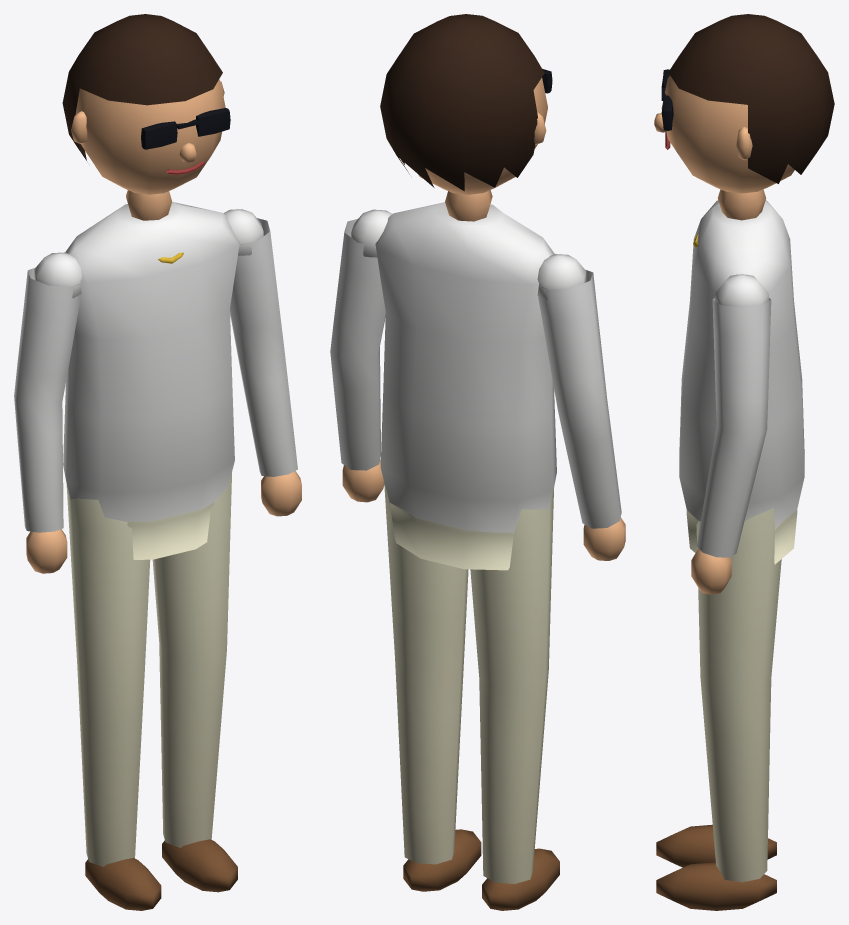
File: Guest_WealthyMan.obj
The picture shows the model from 3 angles, left to right: view 1: azimuth 30°, elevation 25°; view 2: azimuth 150°, elevation 25°; view 3: azimuth 270°, elevation 25°; orthographic projection. The views are drawn at different scales.
Parts seen in each view (by area): view 1: Torso, LegR, Head, LegL, ArmR, ArmL; view 2: Torso, LegR, Head, LegL, ArmR, ArmL; view 3: LegL, Torso, Head, ArmL, LegR.
Boxes of the visible parts, box(x1,y1,x2,y2) form: Torso: box(63, 190, 239, 559); LegR: box(66, 484, 161, 910); Head: box(62, 14, 230, 194); LegL: box(152, 473, 237, 892); ArmR: box(14, 252, 81, 573); ArmL: box(223, 209, 301, 516); Torso: box(375, 190, 556, 570); LegR: box(470, 489, 559, 910); Head: box(380, 14, 552, 194); LegL: box(384, 482, 481, 891); ArmR: box(537, 254, 625, 560); ArmL: box(330, 209, 391, 502); LegL: box(656, 508, 781, 910); Torso: box(679, 189, 804, 564); Head: box(654, 14, 834, 193); ArmL: box(691, 274, 771, 594); LegR: box(656, 824, 776, 867).
Size of the model in its own units: 0.6346 by 1.91 by 0.3601.
Materials: 1 (1 with a texture image).
